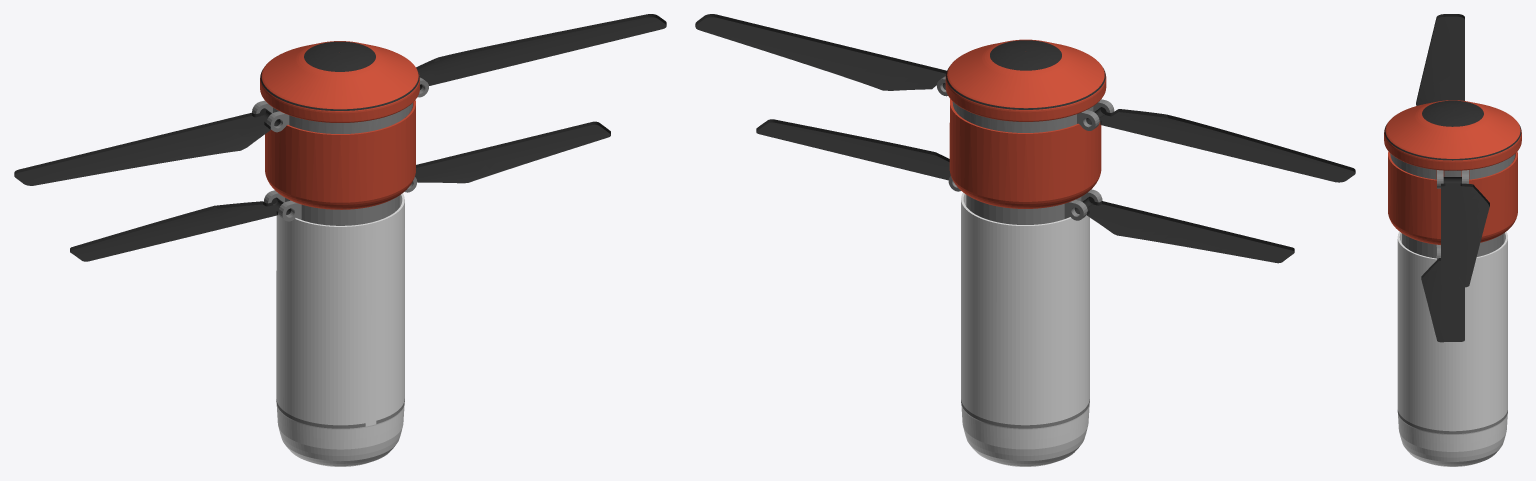
The model's file is Sprite_drone_2.glb.
3 views of the same model, side by side, from view 1: azimuth 30°, elevation 25°; view 2: azimuth 150°, elevation 25°; view 3: azimuth 270°, elevation 25° (orthographic). The views are drawn at different scales.
Visible parts, largest first — view 1: Body, Rotor_two, Rotor_one; view 2: Body, Rotor_two, Rotor_one; view 3: Body, Rotor_two, Rotor_one.
Boxes of the visible parts, <box> form: Body: <box>260,41,419,466</box>; Rotor_two: <box>14,14,666,185</box>; Rotor_one: <box>70,121,610,261</box>; Body: <box>945,39,1106,466</box>; Rotor_two: <box>695,14,1355,182</box>; Rotor_one: <box>756,119,1294,263</box>; Body: <box>1384,100,1521,466</box>; Rotor_two: <box>1390,14,1515,287</box>; Rotor_one: <box>1402,233,1503,342</box>.
Size of the model in its own units: 17.15 by 10.22 by 3.69.
